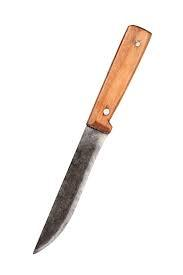Knife: (32, 24, 152, 254)
